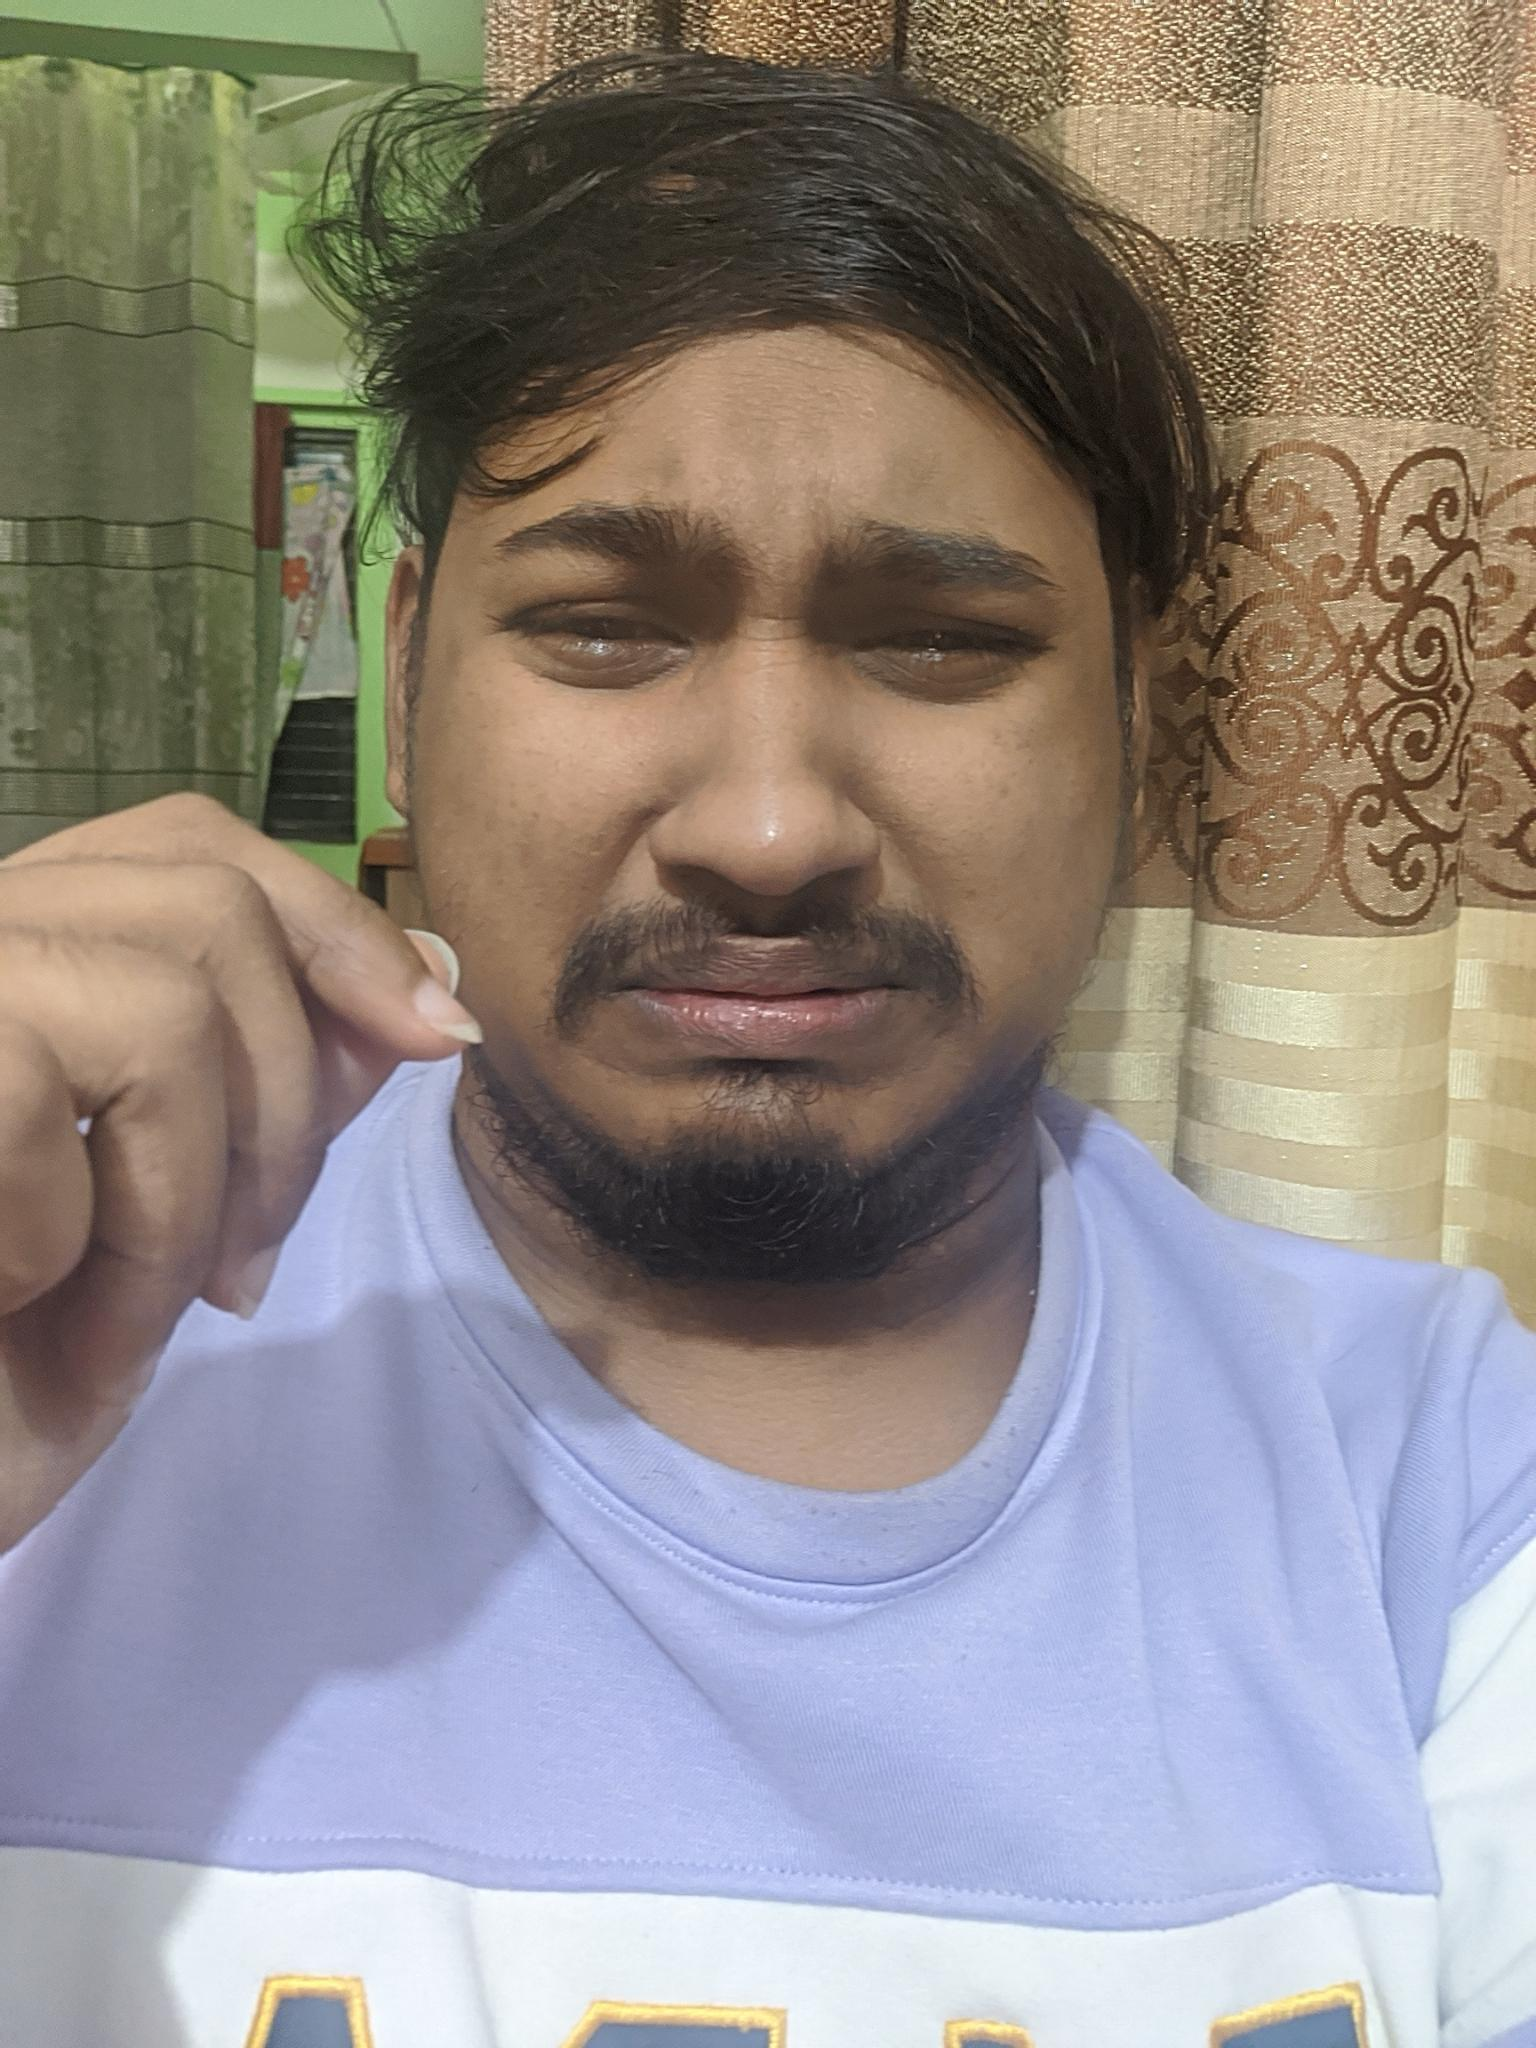Disgust: (423, 395, 1105, 1234)
